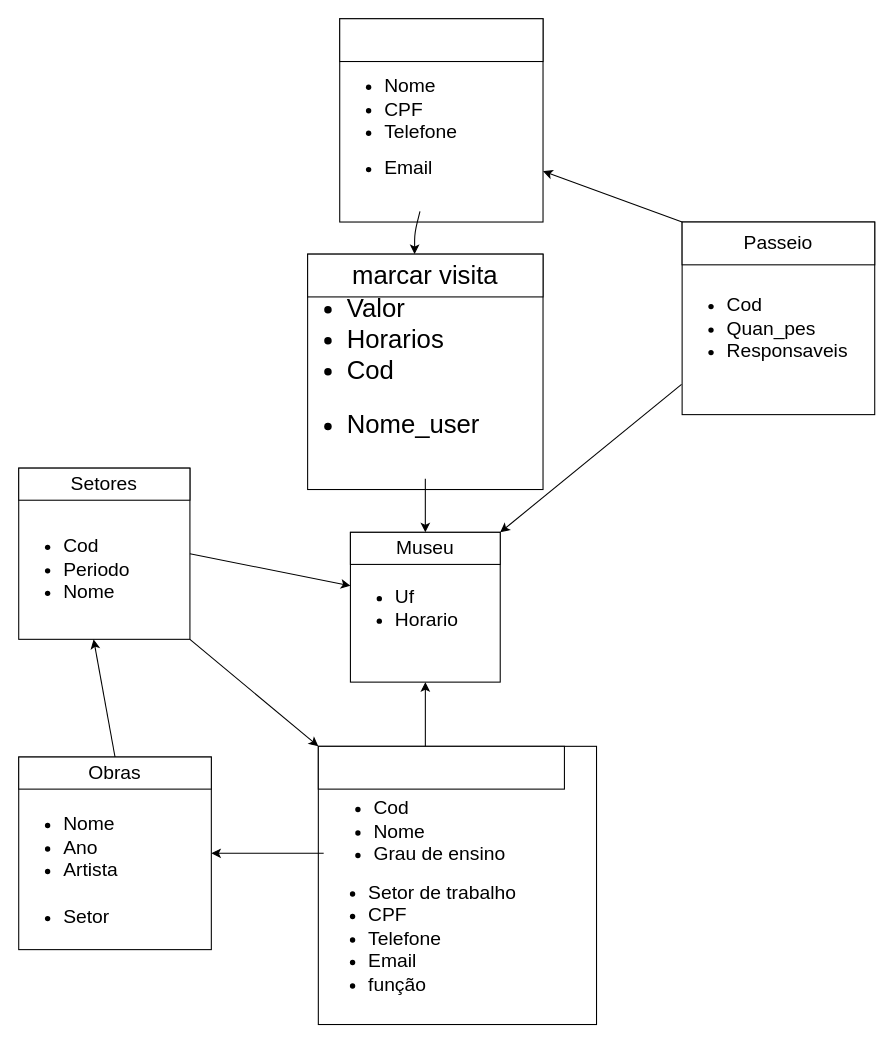
Some shapes in this 893 by 1043 pixel diagram are drawn without their labels. Each missing label, with the box of its shape:
Funcionarios: (317, 745, 564, 789)
Usuario: (339, 18, 543, 62)
